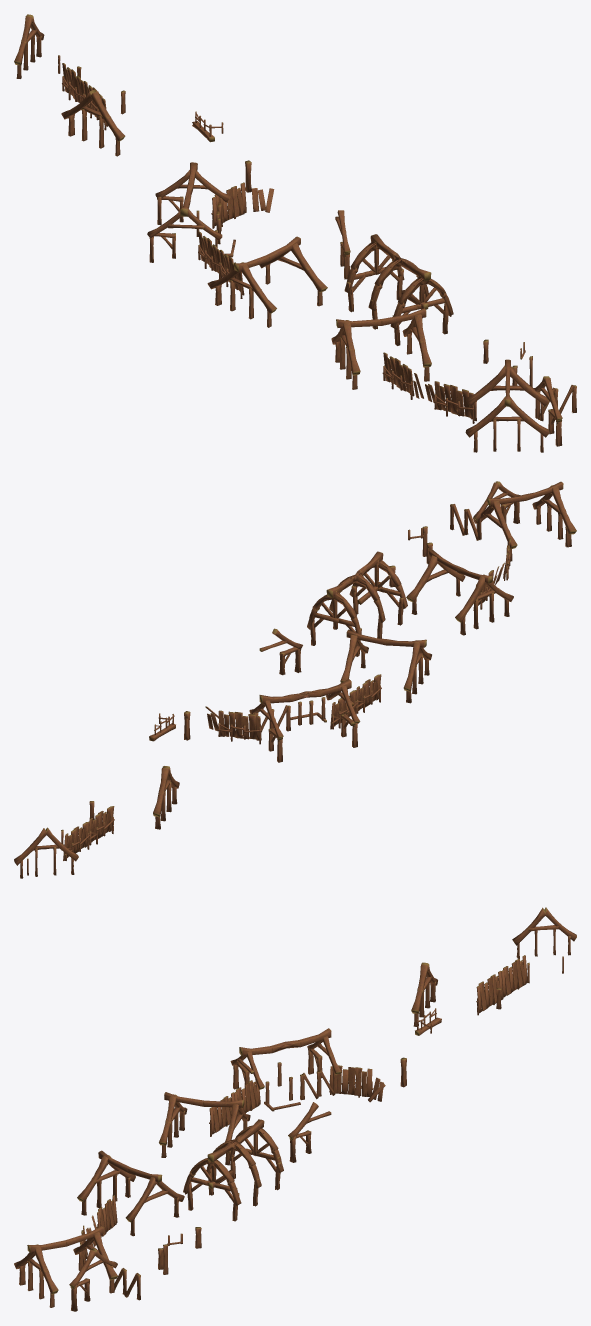
The model's file is WoodBlock6.FBX.
3 views of the same model, one above another, from view 1: azimuth 30°, elevation 25°; view 2: azimuth 150°, elevation 25°; view 3: azimuth 330°, elevation 25° (orthographic). The views are drawn at different scales.
Parts seen in each view (by area): view 1: Object4556; view 2: Object4556; view 3: Object4556.
Boxes of the visible parts, x1=… form: Object4556: x1=14, y1=14, x2=576, y2=452; Object4556: x1=14, y1=481, x2=576, y2=878; Object4556: x1=14, y1=907, x2=576, y2=1311.
Bounding box in the file's own units: 1704 × 757 × 9584.
